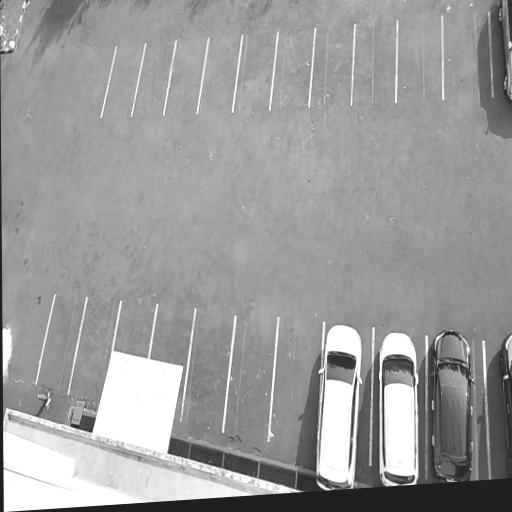Car: (313, 322, 365, 491), (429, 324, 476, 483), (377, 326, 423, 487), (499, 332, 512, 479), (495, 0, 512, 104)
Space Available: (270, 319, 322, 446), (224, 317, 277, 440), (182, 312, 235, 431), (69, 297, 119, 398), (36, 296, 88, 393), (443, 7, 491, 99), (397, 12, 442, 101), (351, 18, 396, 106), (309, 22, 354, 107), (270, 26, 314, 110), (234, 32, 278, 112), (198, 34, 242, 113), (165, 37, 208, 114), (132, 39, 175, 114), (102, 41, 144, 117), (151, 305, 194, 363), (113, 302, 156, 357)
